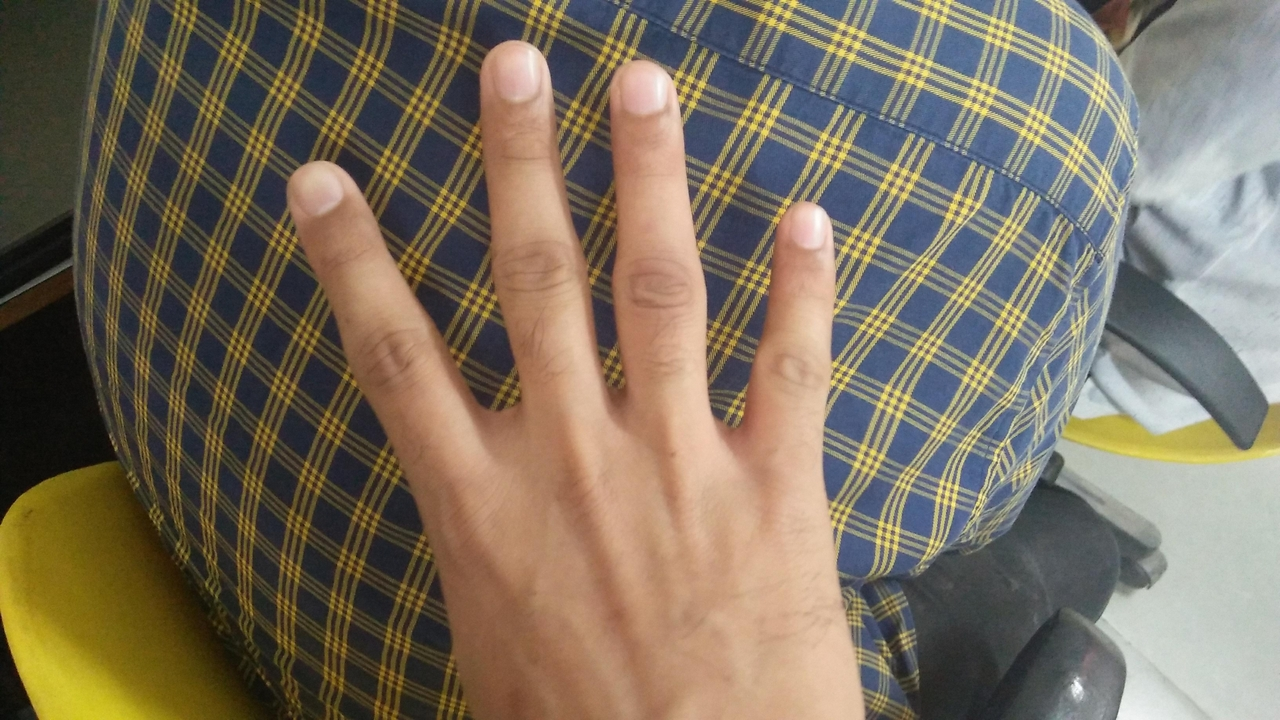fingertip: (272, 154, 358, 232), (472, 34, 554, 114), (608, 54, 686, 128), (774, 192, 846, 268)
